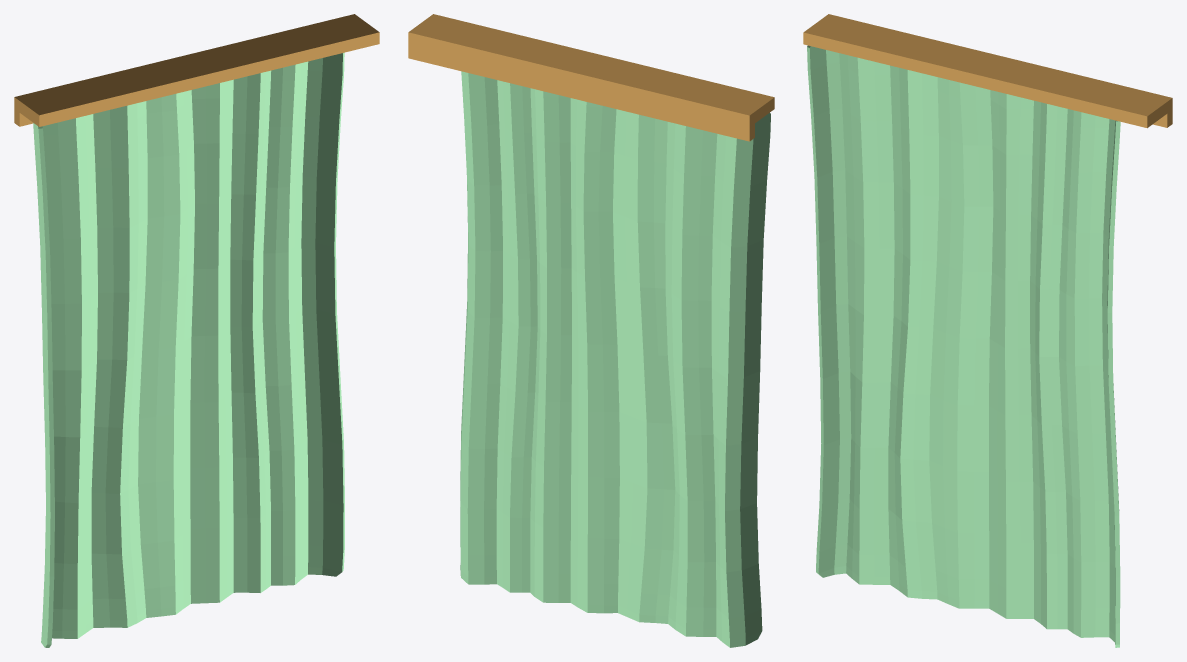
File: Shower Curtain.fbx
3 renders of one model, left to right at view 1: azimuth 30°, elevation 25°; view 2: azimuth 150°, elevation 25°; view 3: azimuth 330°, elevation 25°, orthographic.
Visible parts, largest first — view 1: Node 0; view 2: Node 0; view 3: Node 0.
Boxes of the visible parts, box(x1,y1,x2,y2) form: Node 0: box(14, 14, 379, 647); Node 0: box(408, 14, 774, 647); Node 0: box(803, 14, 1172, 647).
Size of the model in its own units: 0.2299 by 2.75 by 1.81.
